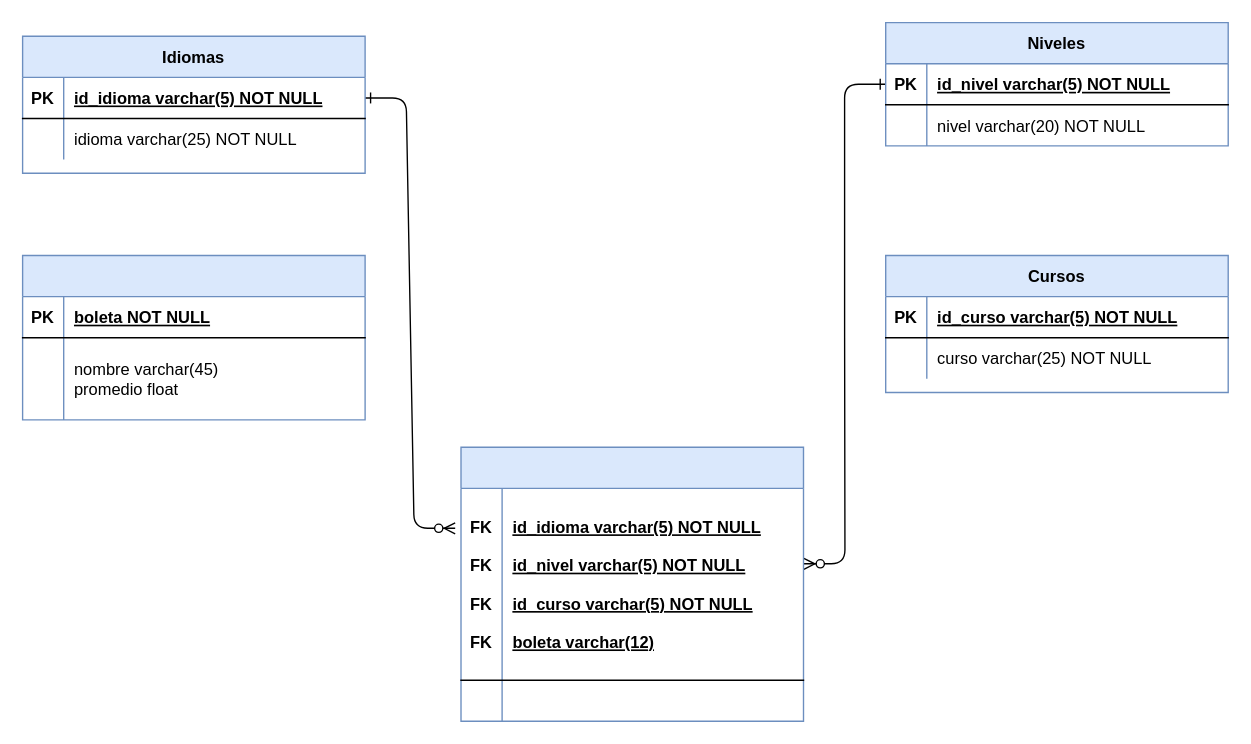
Some shapes in this 1251 by 744 pixel diagram are drawn without their labels. The box of each missing label's shape, as (x1, y1, x2, y2) in pixels:
Estudiantes: (21, 254, 365, 420)
Inscritos: (460, 446, 804, 721)
